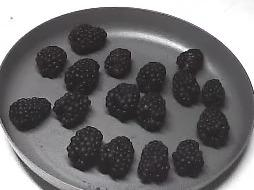berry: (67, 126, 102, 170), (98, 136, 133, 179), (137, 140, 169, 184), (9, 97, 50, 130), (53, 92, 90, 128), (106, 83, 139, 122), (197, 108, 229, 148), (65, 58, 99, 94), (172, 139, 203, 177), (68, 24, 106, 54), (136, 93, 165, 131), (172, 70, 200, 106), (36, 46, 66, 78), (136, 62, 165, 93), (104, 48, 130, 78), (176, 49, 202, 75), (202, 79, 224, 107)
